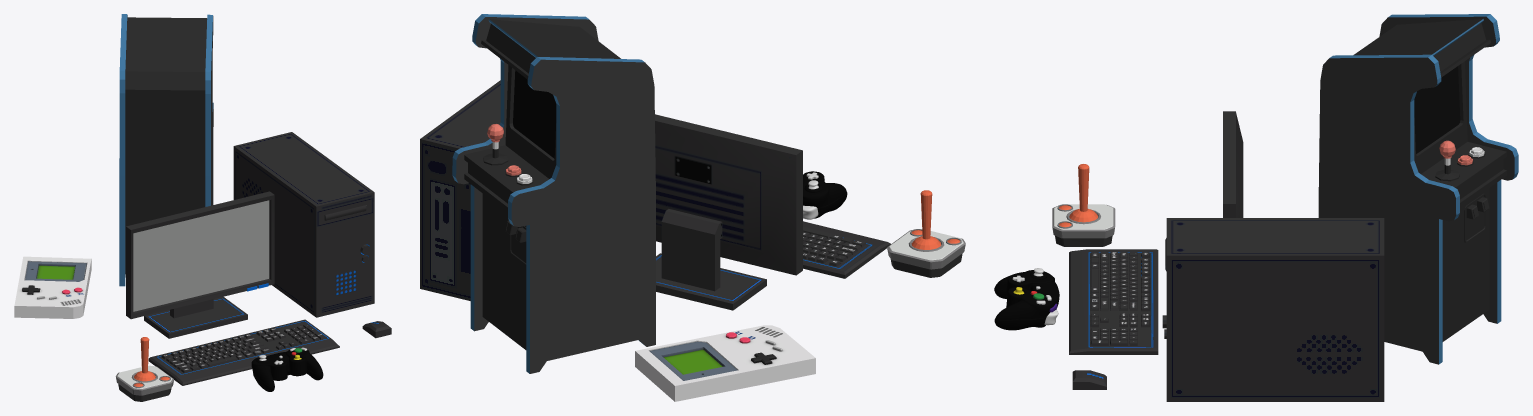
The model's file is Esports.glb.
The picture shows the model from 3 angles, left to right: view 1: azimuth 30°, elevation 25°; view 2: azimuth 150°, elevation 25°; view 3: azimuth 270°, elevation 25°; orthographic projection. The views are drawn at different scales.
Visible parts, largest first — view 1: ArcadeMachine_Cube_002, System_unit, Monitor, Keyboard1, GameBoy_mesh, Controller_001, Joystick, Comp_Mouse; view 2: ArcadeMachine_Cube_002, Monitor, System_unit, GameBoy_mesh, Joystick, Keyboard1, GameScreen_Plane, Controller_001; view 3: ArcadeMachine_Cube_002, System_unit, Keyboard1, Controller_001, Joystick, GameScreen_Plane, Monitor, Comp_Mouse.
Part boxes in pixels (x1,y1,x2,y2): ArcadeMachine_Cube_002: (119, 14, 213, 286); System_unit: (233, 132, 374, 317); Monitor: (126, 191, 274, 338); Keyboard1: (148, 319, 339, 385); GameBoy_mesh: (14, 256, 91, 318); Controller_001: (251, 347, 323, 391); Joystick: (115, 337, 173, 401); Comp_Mouse: (362, 321, 391, 338); ArcadeMachine_Cube_002: (452, 14, 655, 373); Monitor: (655, 114, 802, 310); System_unit: (420, 80, 500, 300); GameBoy_mesh: (635, 325, 815, 401); Joystick: (887, 190, 965, 277); Keyboard1: (803, 221, 890, 278); GameScreen_Plane: (513, 70, 556, 158); Controller_001: (803, 171, 847, 219); ArcadeMachine_Cube_002: (1318, 14, 1518, 364); System_unit: (1162, 218, 1384, 401); Keyboard1: (1069, 249, 1158, 354); Controller_001: (994, 268, 1059, 330); Joystick: (1052, 164, 1115, 246); GameScreen_Plane: (1414, 66, 1460, 153); Monitor: (1223, 111, 1243, 217); Comp_Mouse: (1072, 370, 1106, 389).
Bounding box in the file's own units: 16.1 × 12.73 × 19.45.
Materials: 17 (3 with a texture image).
